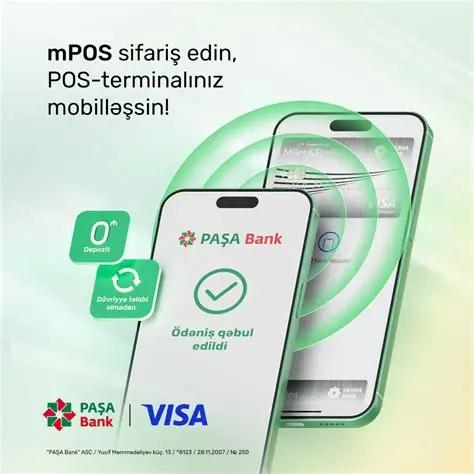Pasha Bank: (41, 397, 77, 432), (178, 228, 197, 248)
